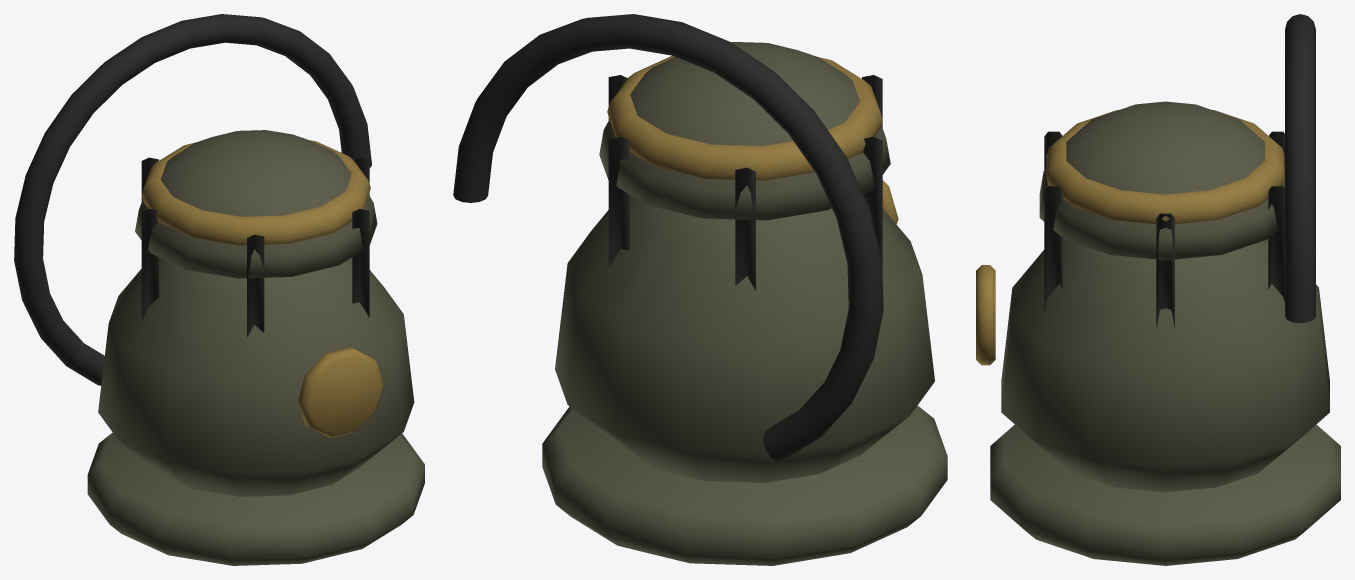
Rendered from forbidden_lamp.obj.
3 views of the same model, side by side, from view 1: azimuth 30°, elevation 25°; view 2: azimuth 150°, elevation 25°; view 3: azimuth 270°, elevation 25° (orthographic). The views are drawn at different scales.
Parts seen in each view (by area): view 1: A_Belly.001_oxidized_bronze, A_Base.001_oxidized_bronze, A_Roof.001_oxidized_bronze, A_Handle.001_wrought_iron, A_Crown.001_ritual_gold, A_Seal.001_ritual_gold, A_Cage_1.001_wrought_iron, A_Cage_3.001_wrought_iron, A_Cage_2.001_wrought_iron; view 2: A_Belly.001_oxidized_bronze, A_Base.001_oxidized_bronze, A_Handle.001_wrought_iron, A_Roof.001_oxidized_bronze, A_Crown.001_ritual_gold, A_Cage_5.001_wrought_iron, A_Cage_4.001_wrought_iron, A_Cage_3.001_wrought_iron; view 3: A_Belly.001_oxidized_bronze, A_Base.001_oxidized_bronze, A_Roof.001_oxidized_bronze, A_Handle.001_wrought_iron, A_Crown.001_ritual_gold, A_Seal.001_ritual_gold, A_Cage_1.001_wrought_iron, A_Cage_5.001_wrought_iron, A_Cage_0.001_wrought_iron.
Boxes of the visible parts, left/top/right/bottom form: A_Belly.001_oxidized_bronze: left=98, top=257, right=414, bottom=496; A_Base.001_oxidized_bronze: left=87, top=432, right=424, bottom=565; A_Roof.001_oxidized_bronze: left=135, top=130, right=377, bottom=278; A_Handle.001_wrought_iron: left=14, top=14, right=371, bottom=385; A_Crown.001_ritual_gold: left=141, top=140, right=370, bottom=245; A_Seal.001_ritual_gold: left=297, top=347, right=383, bottom=437; A_Cage_1.001_wrought_iron: left=352, top=209, right=369, bottom=317; A_Cage_3.001_wrought_iron: left=141, top=209, right=158, bottom=321; A_Cage_2.001_wrought_iron: left=247, top=234, right=264, bottom=337; A_Belly.001_oxidized_bronze: left=555, top=195, right=934, bottom=482; A_Base.001_oxidized_bronze: left=542, top=405, right=947, bottom=565; A_Handle.001_wrought_iron: left=453, top=14, right=883, bottom=461; A_Roof.001_oxidized_bronze: left=599, top=42, right=890, bottom=220; A_Crown.001_ritual_gold: left=607, top=55, right=882, bottom=180; A_Cage_5.001_wrought_iron: left=608, top=136, right=629, bottom=267; A_Cage_4.001_wrought_iron: left=735, top=167, right=755, bottom=290; A_Cage_3.001_wrought_iron: left=863, top=136, right=882, bottom=271; A_Belly.001_oxidized_bronze: left=1001, top=238, right=1329, bottom=492; A_Base.001_oxidized_bronze: left=990, top=424, right=1340, bottom=565; A_Roof.001_oxidized_bronze: left=1039, top=101, right=1284, bottom=260; A_Handle.001_wrought_iron: left=1285, top=14, right=1315, bottom=323; A_Crown.001_ritual_gold: left=1046, top=110, right=1284, bottom=224; A_Seal.001_ritual_gold: left=976, top=265, right=995, bottom=365; A_Cage_1.001_wrought_iron: left=1044, top=186, right=1062, bottom=311; A_Cage_5.001_wrought_iron: left=1268, top=186, right=1284, bottom=302; A_Cage_0.001_wrought_iron: left=1156, top=213, right=1174, bottom=328.
Size of the model in its own units: 1.55 by 1.81 by 1.3.
